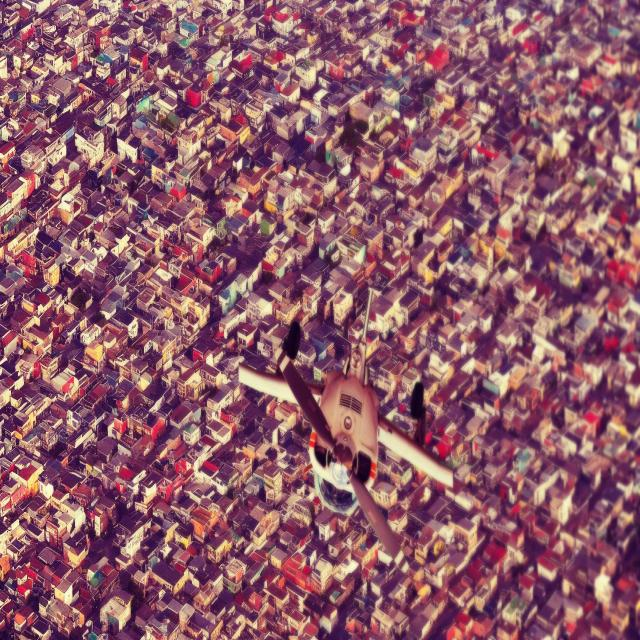airplane: (238, 287, 454, 575)
